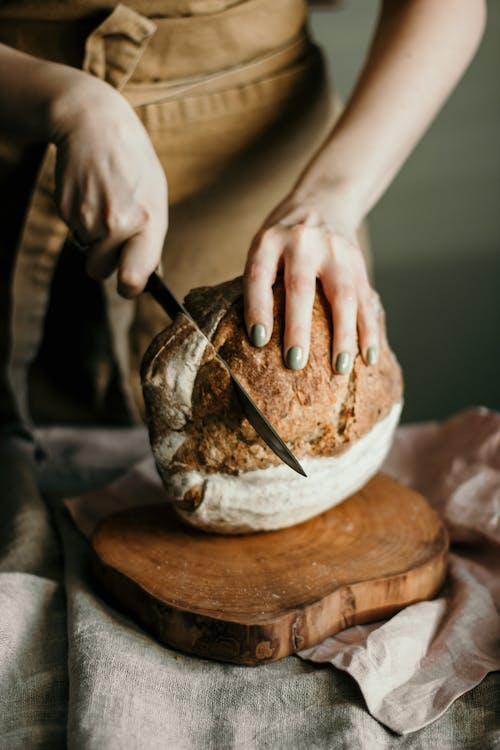knife: (146, 271, 309, 481)
